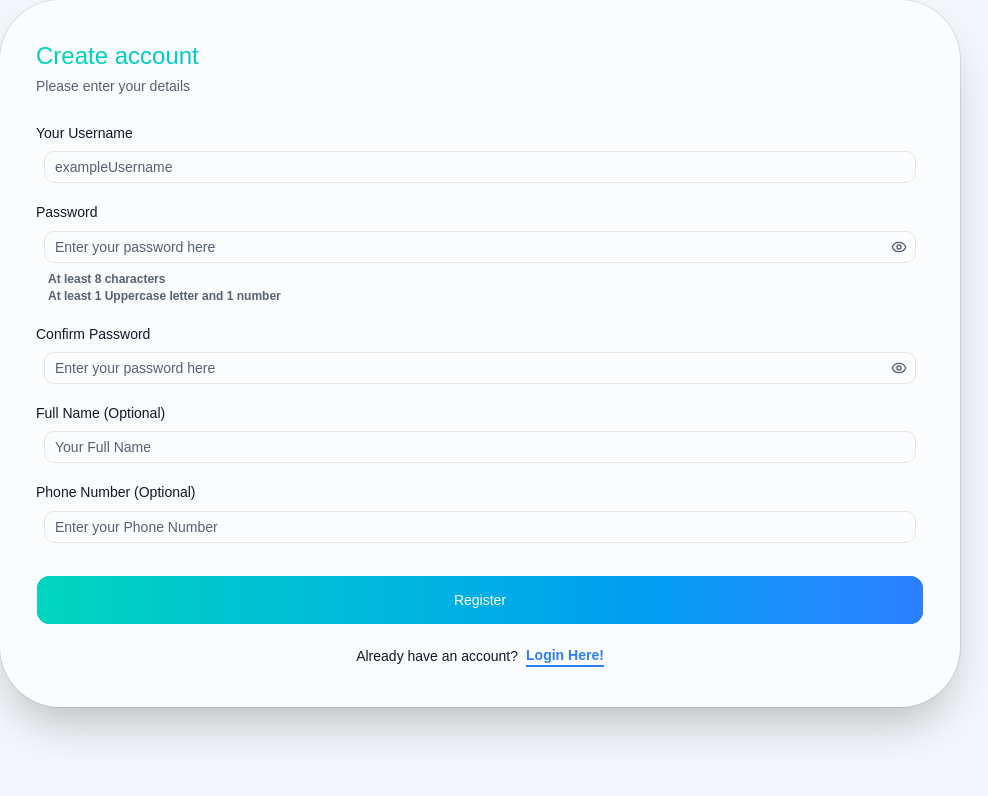
Test: Register Page › handles known Axios errors from the API
The width and height of the screenshot is (988, 796).
Step 1. Type "KhangNguyen" into the field labelled "Your Username" → (480, 167), box 44,151 -> 916,183
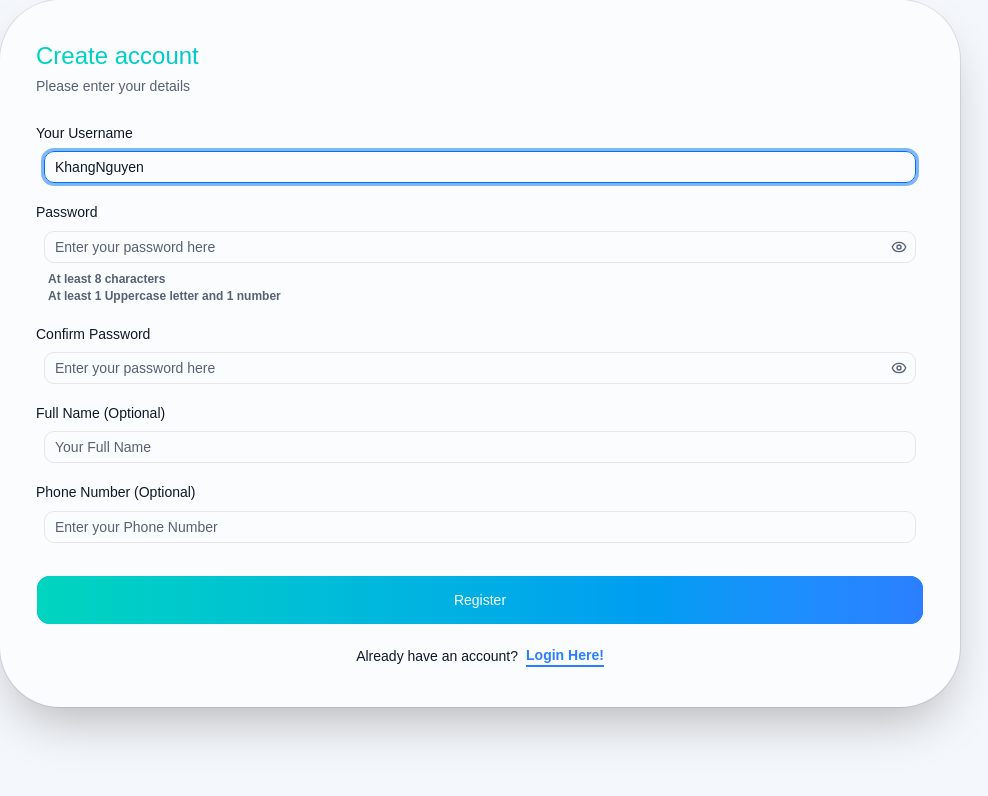
Step 2. Type "StrongPass123" into the password field labelled "Password" → (468, 246), box 45,230 -> 891,262
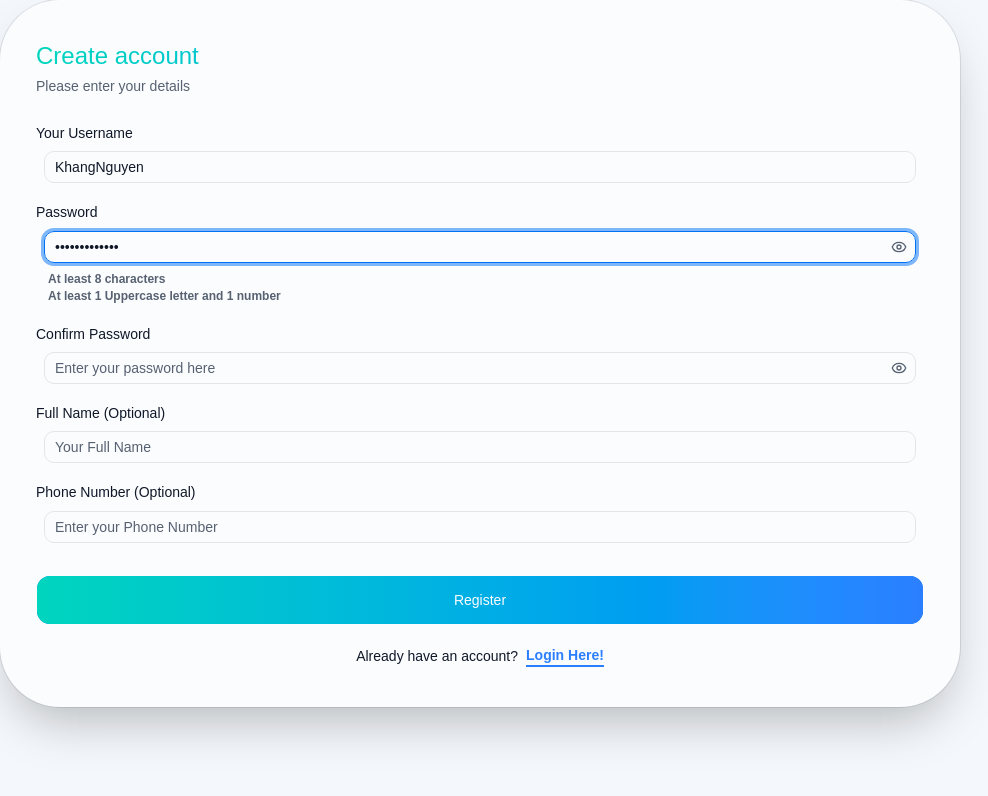
Step 3. Type "StrongPass123" into the password field labelled "Confirm Password" → (468, 368), box 45,352 -> 891,384
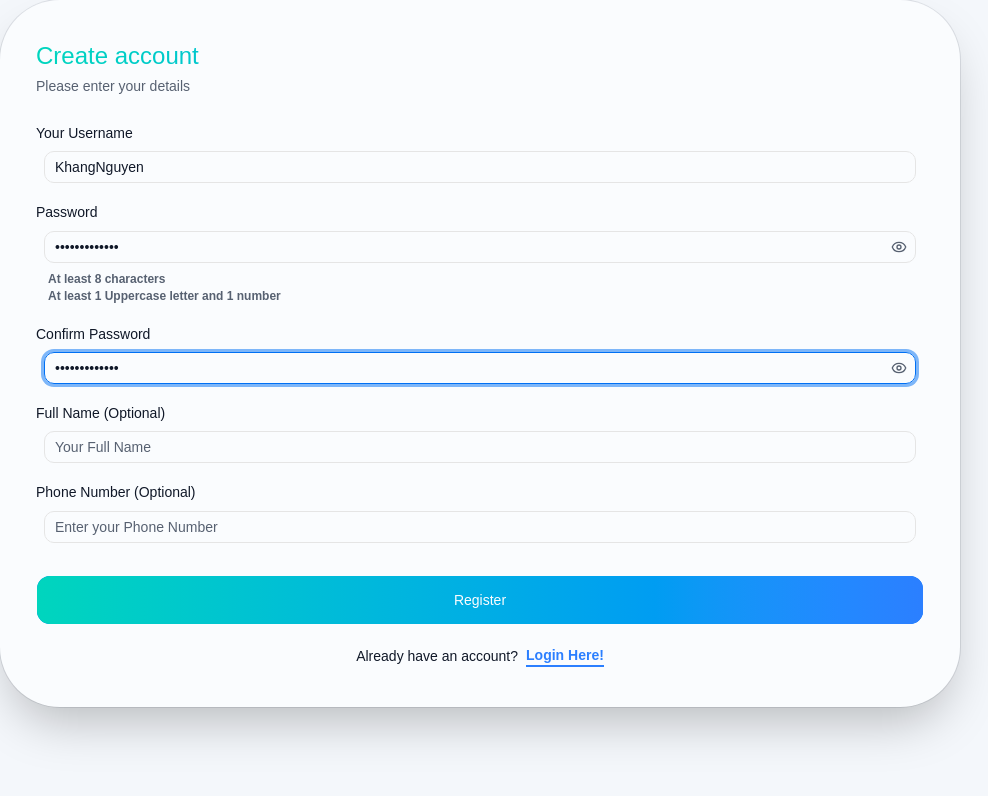
Step 4. Click the button "Register" → (480, 600), box 36,574 -> 924,624
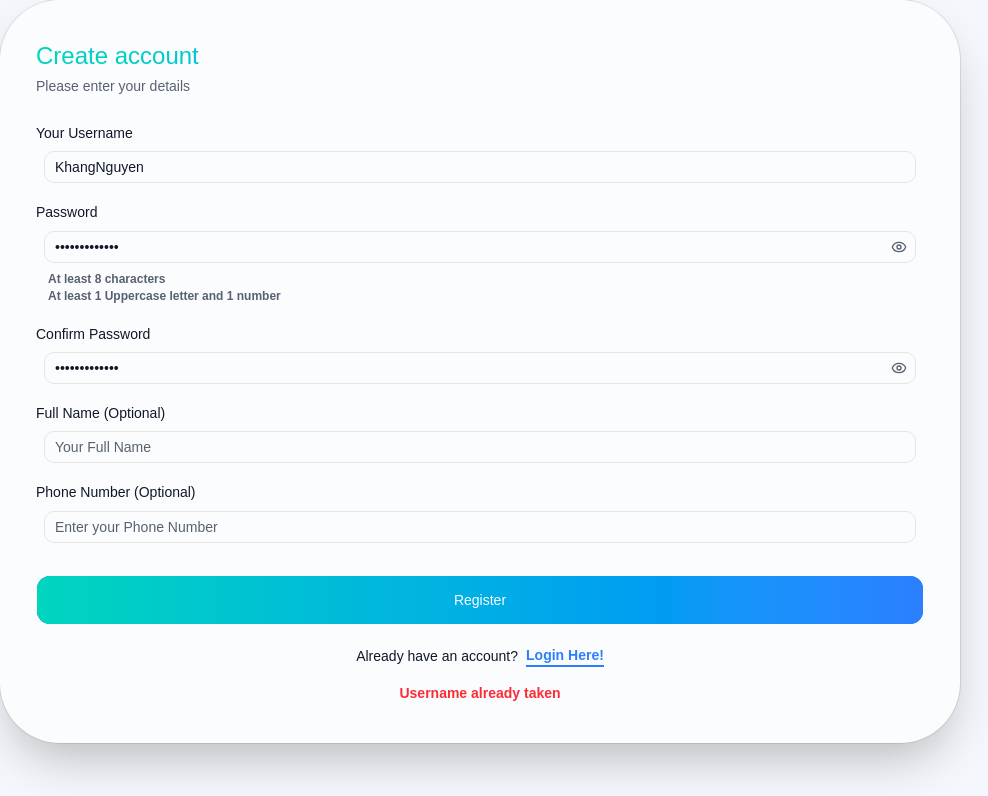
Check: the text "Username already taken" is shown, box 400,684 -> 561,700
